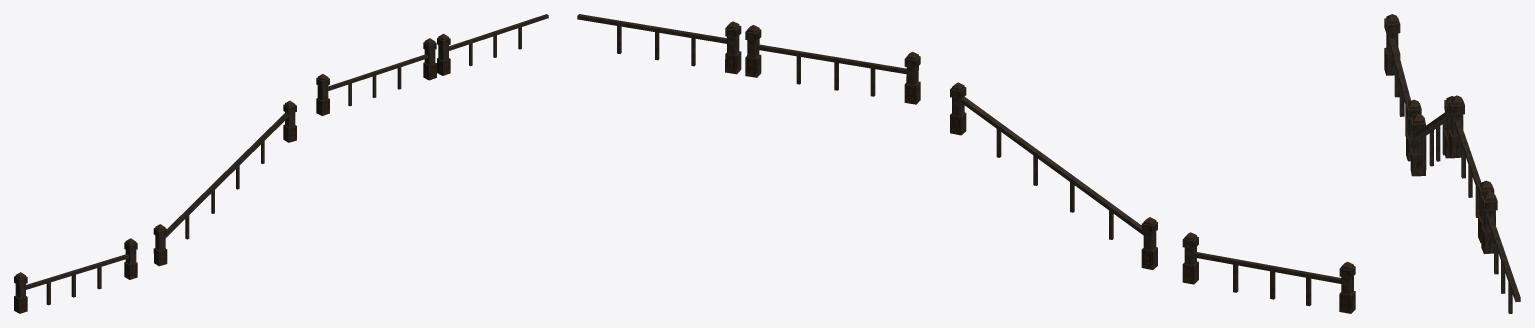
The model's file is rail_crack01.fbx.
3 views of the same model, side by side, from view 1: azimuth 30°, elevation 25°; view 2: azimuth 150°, elevation 25°; view 3: azimuth 270°, elevation 25° (orthographic). The views are drawn at different scales.
Parts seen in each view (by area): view 1: ship_rail_01; view 2: ship_rail_01; view 3: ship_rail_01.
Part boxes in pixels (bbox=[...]): ship_rail_01: bbox=[14, 14, 548, 313]; ship_rail_01: bbox=[577, 14, 1355, 313]; ship_rail_01: bbox=[1384, 14, 1520, 313].
Size of the model in its own units: 43.02 by 10.33 by 5.92.
